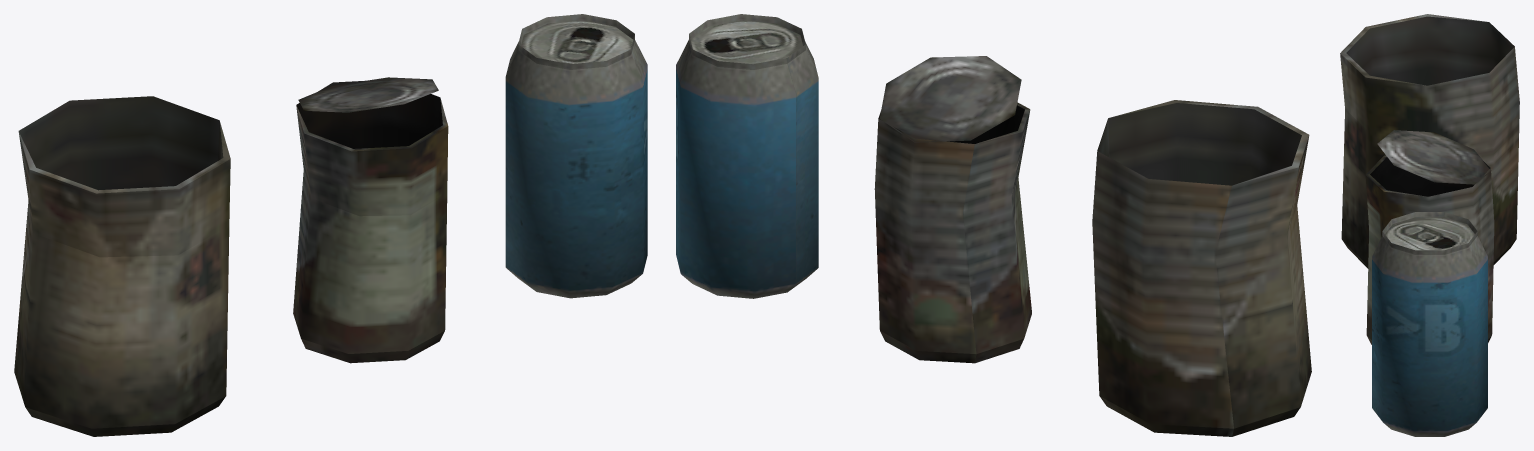
File: junk props.glb
3 renders of one model, left to right at view 1: azimuth 30°, elevation 25°; view 2: azimuth 150°, elevation 25°; view 3: azimuth 270°, elevation 25°, orthographic. The views are drawn at different scales.
Visible parts, largest first — view 1: garbage_metalcan002a_reference.smd, garbage_metalcan001a_reference.smd, PopCan01a_reference.smd; view 2: garbage_metalcan002a_reference.smd, garbage_metalcan001a_reference.smd, PopCan01a_reference.smd; view 3: garbage_metalcan002a_reference.smd, PopCan01a_reference.smd, garbage_metalcan001a_reference.smd.
Boxes of the visible parts, bbox=[...] form: garbage_metalcan002a_reference.smd: bbox=[14, 96, 230, 436]; garbage_metalcan001a_reference.smd: bbox=[293, 77, 448, 363]; PopCan01a_reference.smd: bbox=[505, 14, 647, 298]; garbage_metalcan002a_reference.smd: bbox=[1092, 100, 1311, 436]; garbage_metalcan001a_reference.smd: bbox=[874, 56, 1031, 363]; PopCan01a_reference.smd: bbox=[676, 14, 818, 298]; garbage_metalcan002a_reference.smd: bbox=[1340, 14, 1519, 268]; PopCan01a_reference.smd: bbox=[1372, 212, 1487, 436]; garbage_metalcan001a_reference.smd: bbox=[1365, 130, 1494, 344].
Size of the model in its own units: 0.354 by 0.1407 by 0.113.
Materials: 2 (2 with a texture image).
